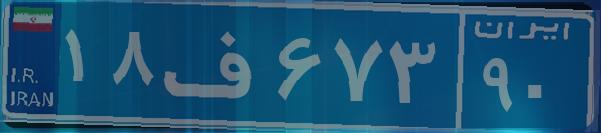0: (525, 38, 570, 115)
1: (57, 26, 110, 107)
3: (385, 28, 445, 110)
6: (273, 28, 330, 110)
7: (330, 28, 385, 110)
8: (110, 28, 158, 105)
9: (475, 38, 525, 113)
ف: (158, 15, 273, 115)
